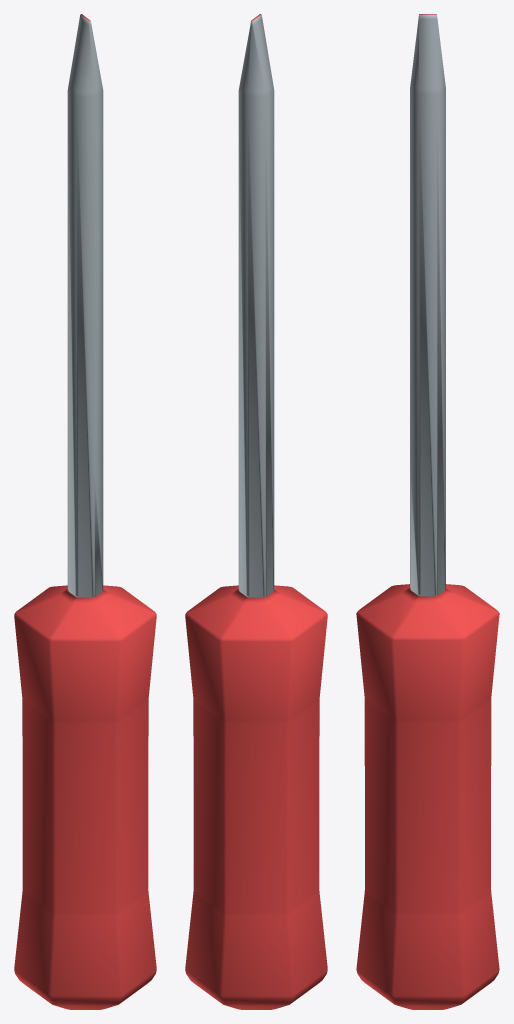
Rendered from Screw.fbx.
3 renders of one model, left to right at view 1: azimuth 30°, elevation 25°; view 2: azimuth 150°, elevation 25°; view 3: azimuth 270°, elevation 25°, orthographic.
Parts seen in each view (by area): view 1: Screw; view 2: Screw; view 3: Screw.
Part boxes in pixels (<box>): Screw: <box>14,14,156,1009</box>; Screw: <box>185,14,327,1009</box>; Screw: <box>356,14,499,1009</box>.
Bounding box in the file's own units: 27.72 × 241 × 31.54.
